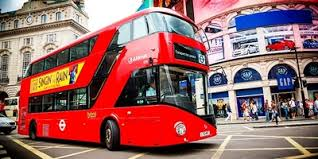bus: (16, 6, 218, 151)
